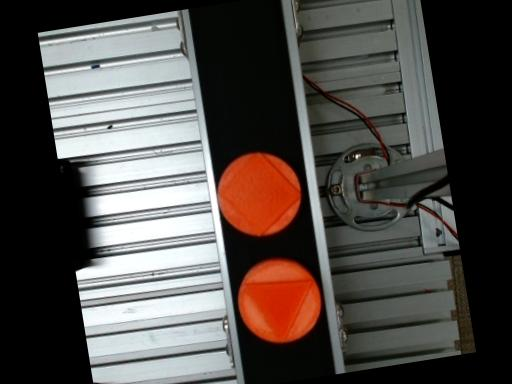Not_Square: (239, 279, 312, 345)
Orange_Waper: (236, 256, 320, 343), (217, 151, 300, 236)
Square: (217, 151, 301, 237)
